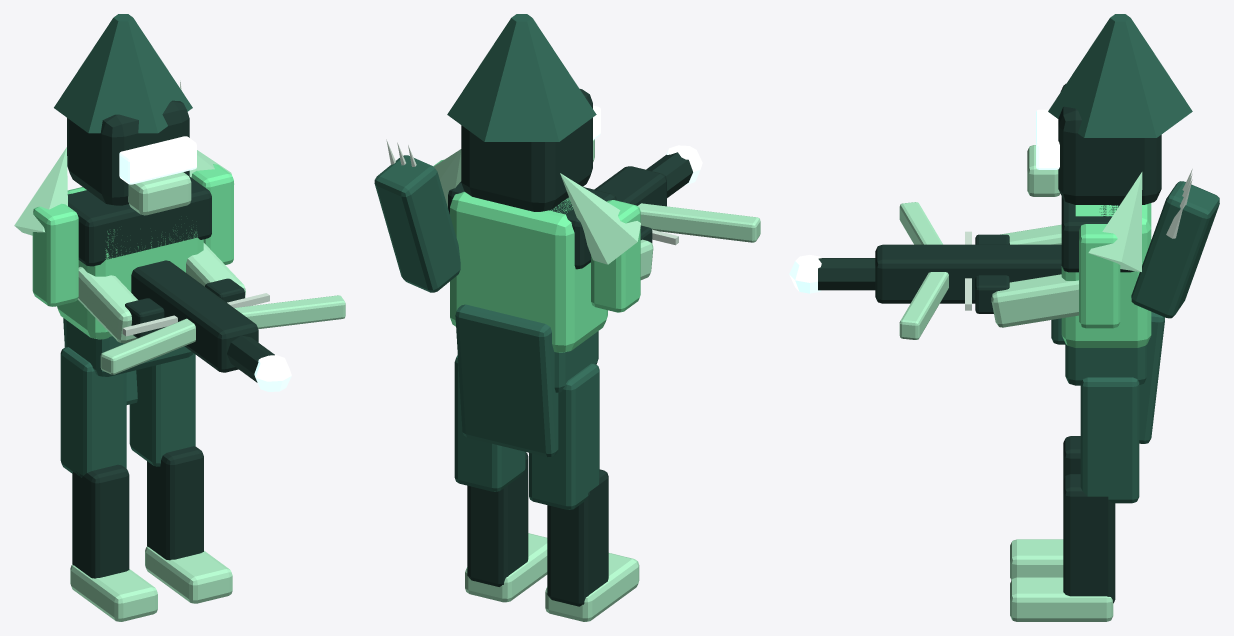
The model's file is SM_Schuetze.fbx.
3 renders of one model, left to right at view 1: azimuth 30°, elevation 25°; view 2: azimuth 150°, elevation 25°; view 3: azimuth 270°, elevation 25°, orthographic. The views are drawn at different scales.
Visible parts, largest first — view 1: SM_Schuetze; view 2: SM_Schuetze; view 3: SM_Schuetze.
Boxes of the visible parts, x1,y1,x2,y2 form: SM_Schuetze: (14,14,345,621); SM_Schuetze: (374,14,760,621); SM_Schuetze: (789,14,1219,621).
Size of what is drawn, in the model's own units: 0.8366 by 1.85 by 1.25.
